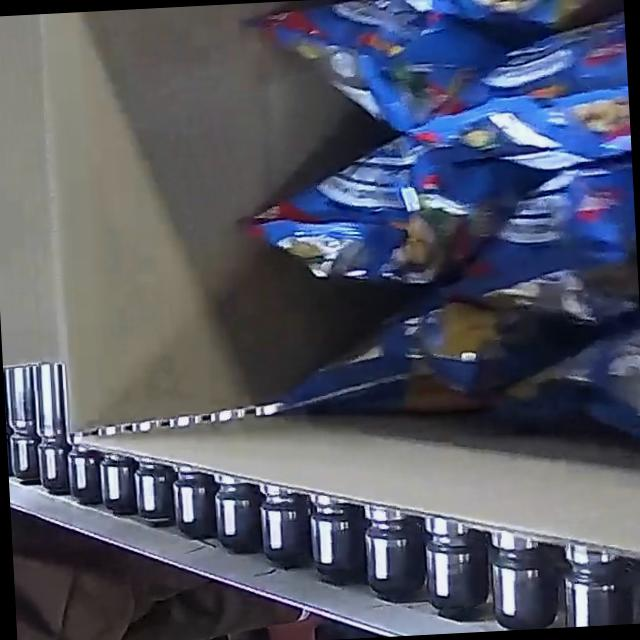paprika: (225, 0, 640, 494)
